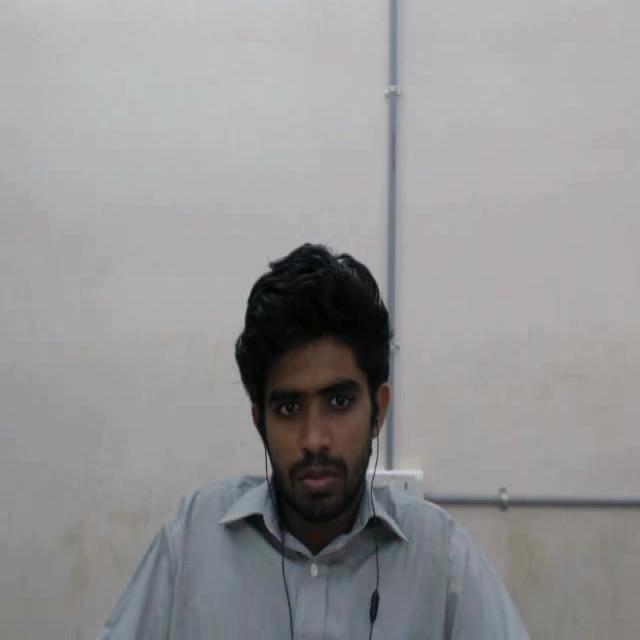Engaged: (221, 231, 411, 551)
